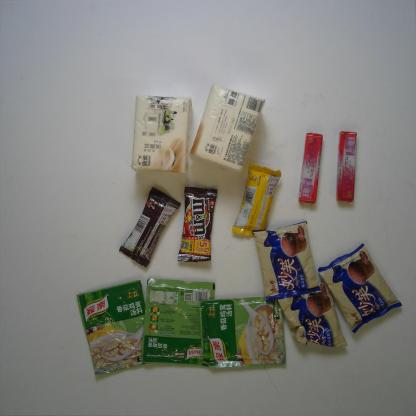Candy: (297, 131, 323, 207), (336, 131, 358, 203)
Chocolate: (118, 186, 182, 269), (232, 162, 282, 238), (176, 186, 218, 263)
Dessert: (316, 242, 404, 335), (252, 219, 322, 302), (277, 281, 349, 349)
Seasoner: (76, 279, 153, 377), (141, 276, 215, 368), (198, 295, 287, 369)
Tissue: (188, 84, 266, 172), (132, 94, 193, 174)
